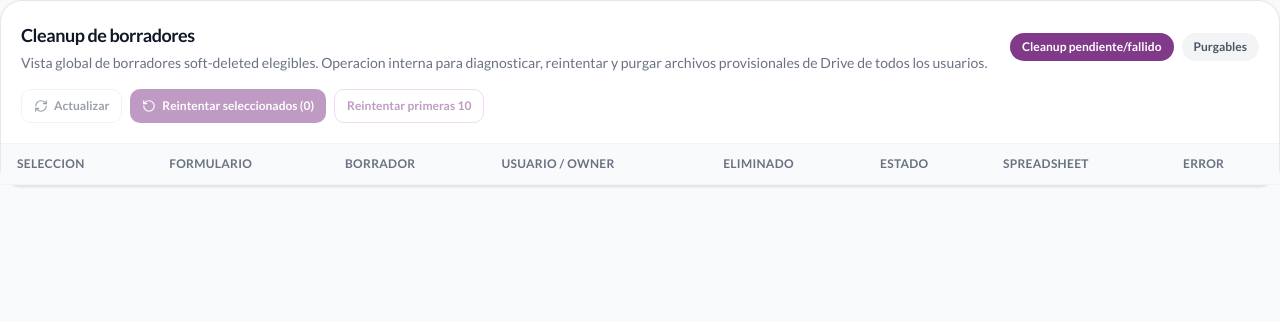
Test: DraftCleanupAdminPanel › switches to purgeable view and purges selected drafts with confirmation
The image size is (1280, 322).
Click the button "Purgables".
click(1220, 47)  # box [1182, 33, 1259, 61]
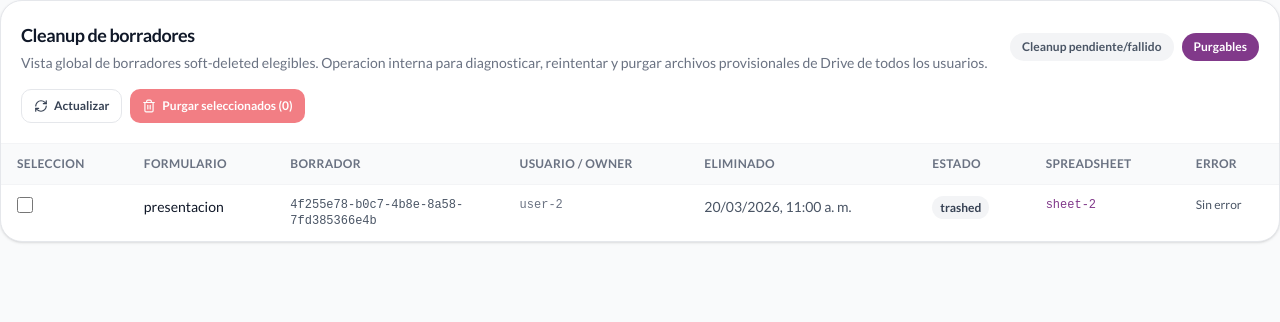
expect the text "presentacion" is shown: met, box [128, 184, 274, 241]
Click the checkbox named "Seleccionar 4f255e78-b0c7-4b8e-8a58-7fd385366e4b".
click(25, 205)  # box [17, 197, 33, 213]
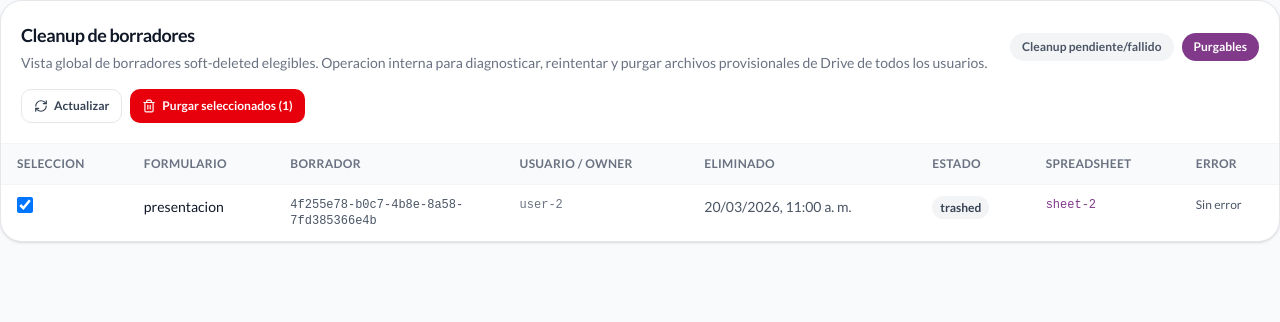
Click the button "Purgar seleccionados (1)".
click(217, 106)  # box [130, 89, 305, 123]
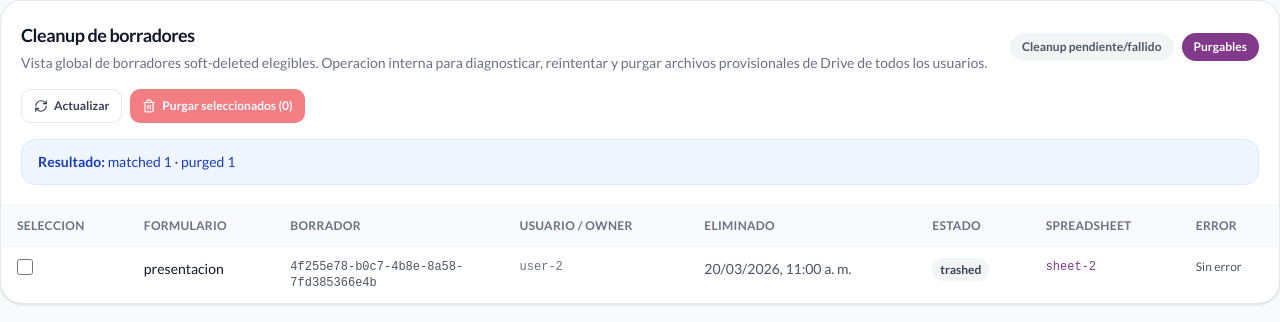
expect the text "Resultado: matched 1 · purged 1" is shown: met, box [21, 139, 1259, 185]
